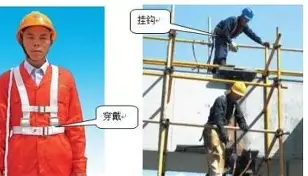safety belt: (7, 63, 72, 141), (208, 94, 240, 137), (214, 18, 241, 48)
